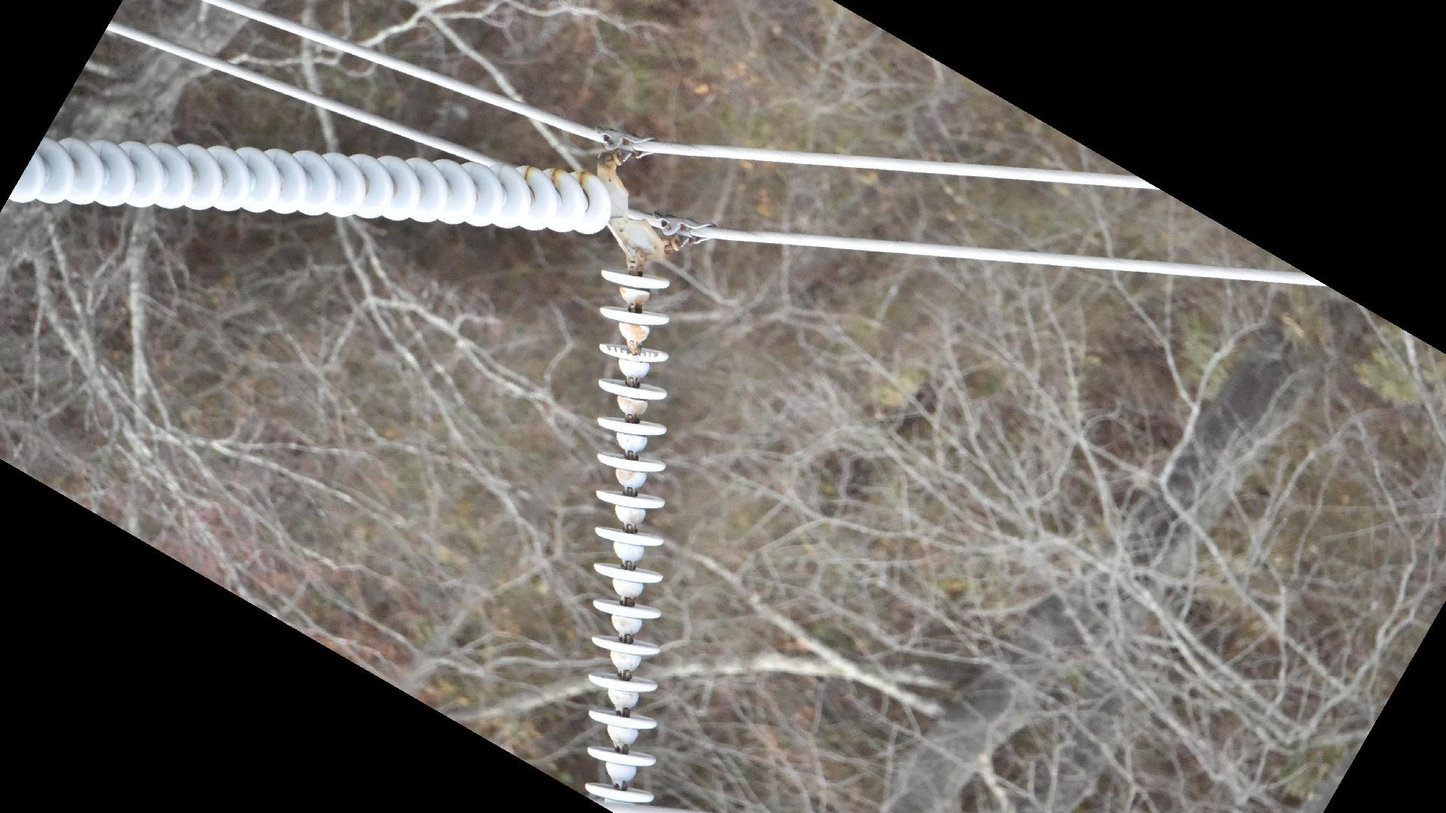insulator: (1, 129, 621, 245), (578, 266, 676, 813)
insulator_breakage: (593, 340, 664, 365)
